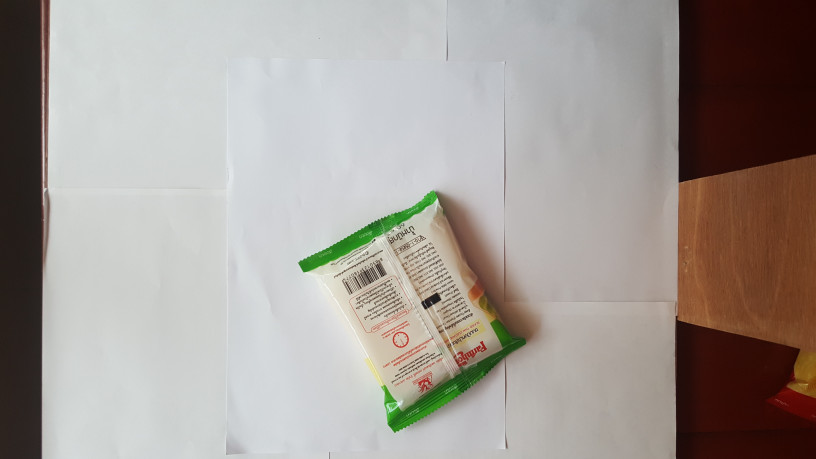farmhouse-bread-pandan: (295, 182, 532, 438)
